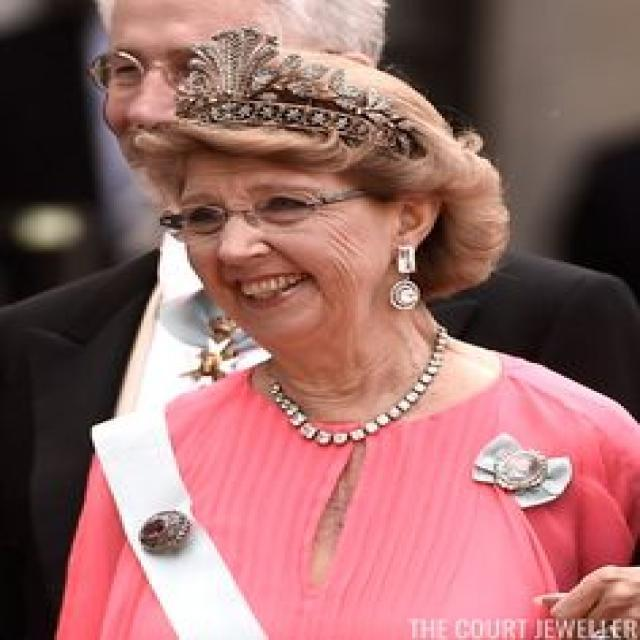Earring: (382, 225, 428, 319)
